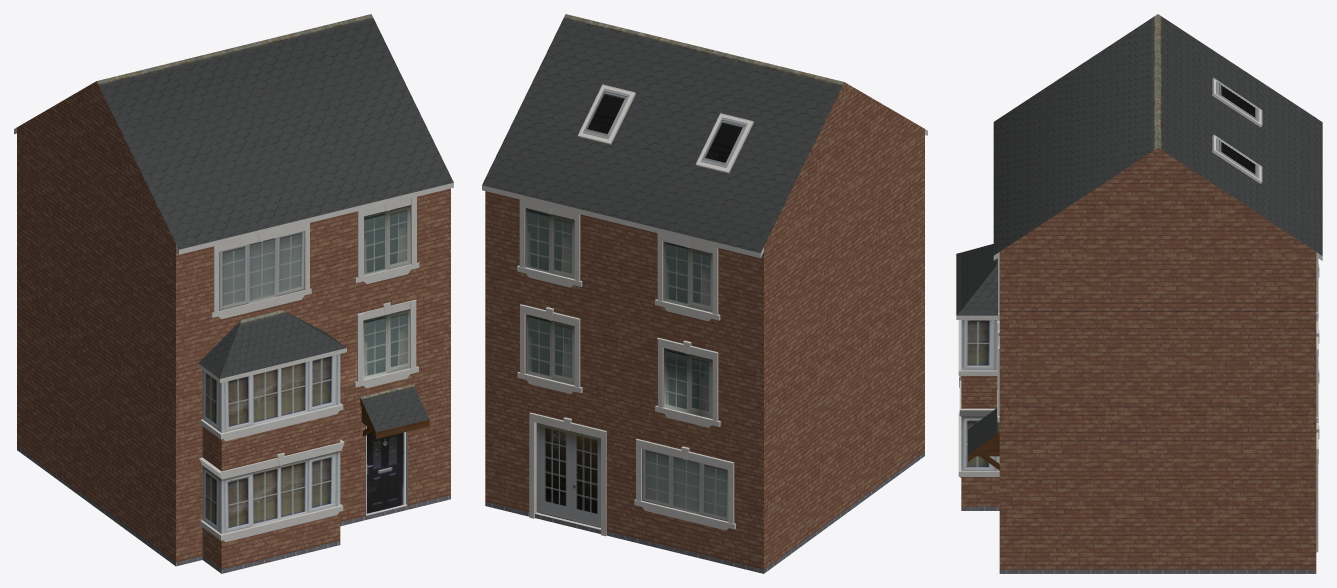
File: modernterrace3story3m.FBX
3 renders of one model, left to right at view 1: azimuth 30°, elevation 25°; view 2: azimuth 150°, elevation 25°; view 3: azimuth 270°, elevation 25°, orthographic.
Parts seen in each view (by area): view 1: Box001; view 2: Box001; view 3: Box001.
Part boxes in pixels (x1,y1,x2,y2): Box001: (14, 14, 453, 573); Box001: (482, 14, 927, 573); Box001: (956, 14, 1322, 573).
Size of the model in its own units: 800 by 1188 by 925.
